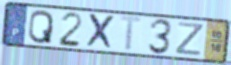2: (58, 11, 83, 49)
3: (148, 17, 173, 56)
Q: (27, 8, 55, 45)
T: (117, 14, 145, 53)
X: (85, 13, 116, 51)
Z: (174, 20, 206, 57)
